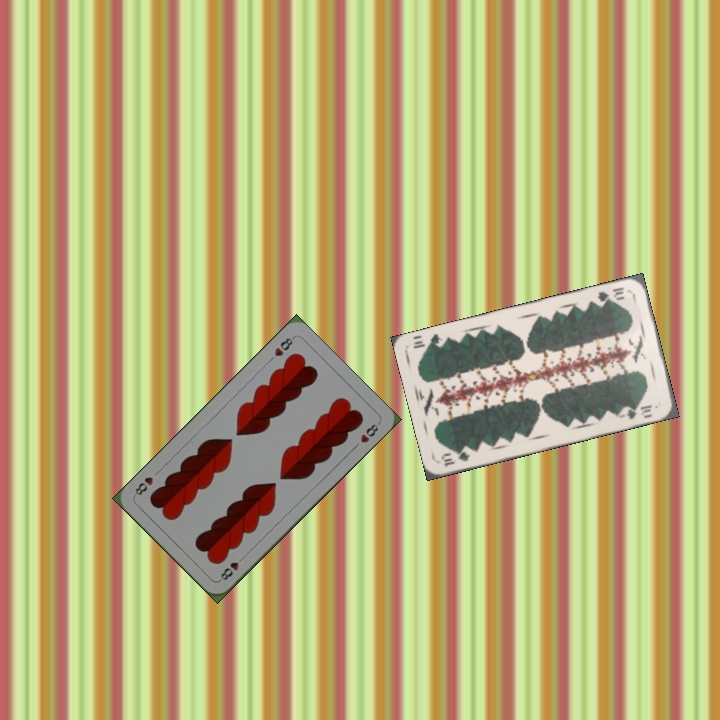G10: (591, 283, 627, 308), (437, 446, 472, 469)
H8: (216, 551, 248, 583), (270, 333, 297, 359)
